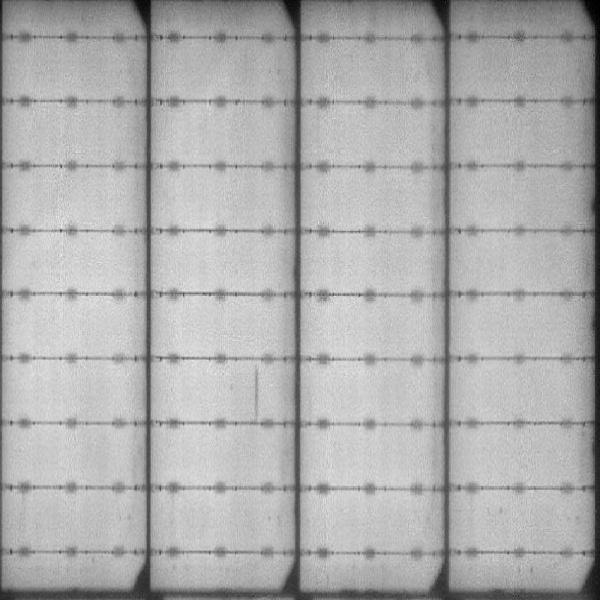scratch: (251, 361, 264, 422)
